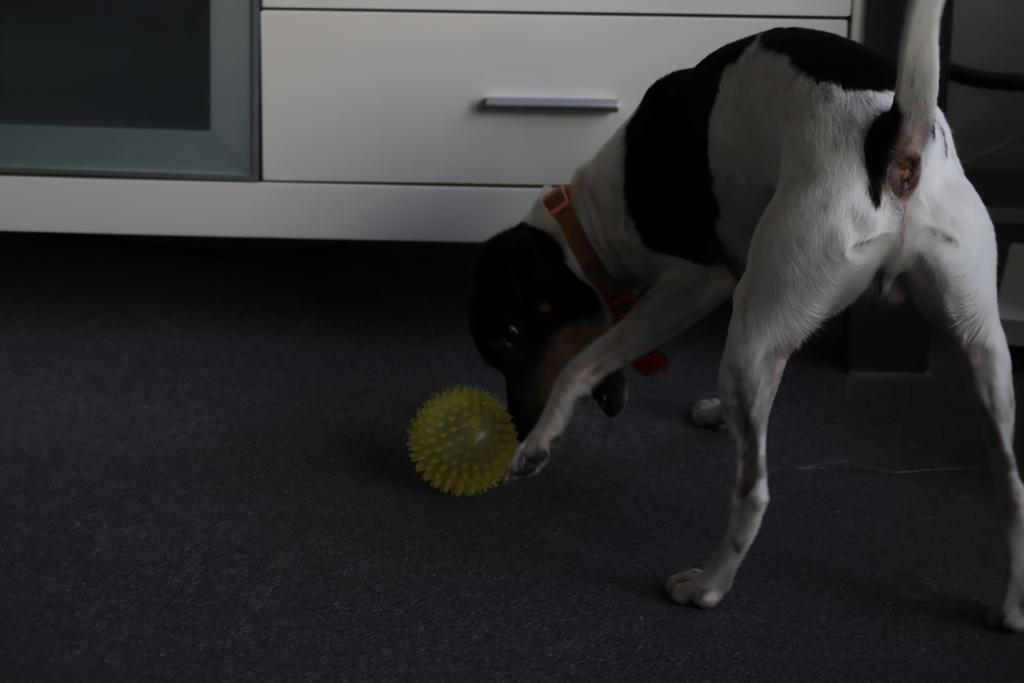Dog: (430, 0, 1024, 641)
